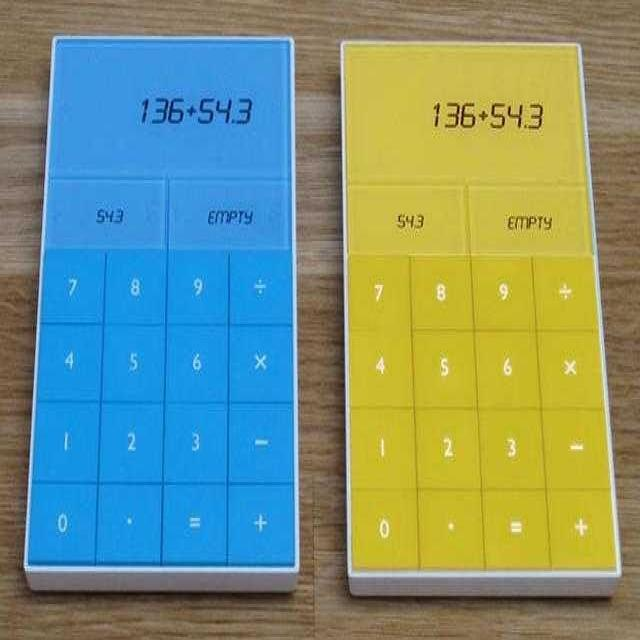Calculator: (342, 45, 620, 595), (24, 38, 298, 590)
